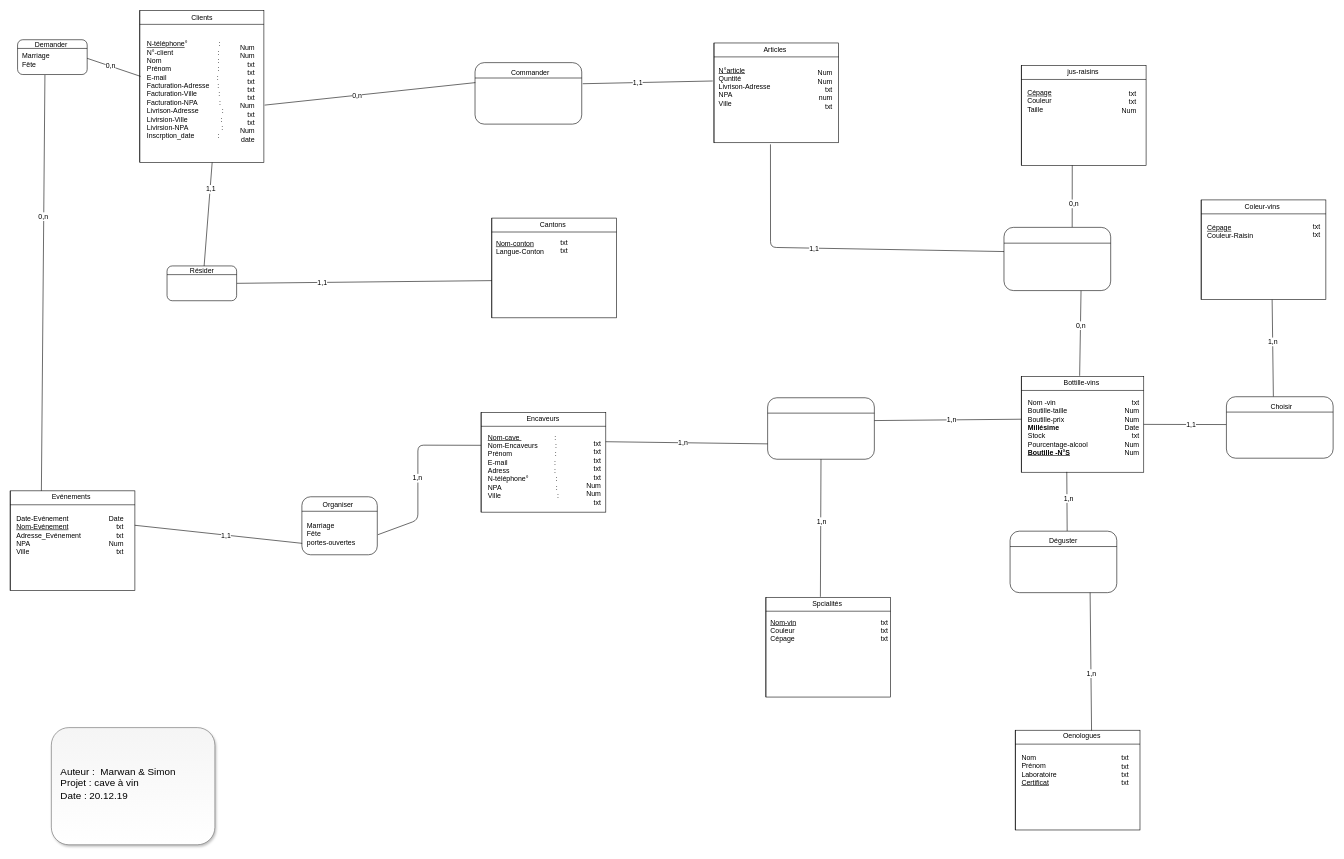
This 1344x859 diagram has some shape labels left out. Here are the shapes that lost their labels. From the top down, the centre of each, then its label:
At pixel 1057 259: "Contenir".
At pixel 820 428: "Produire".
